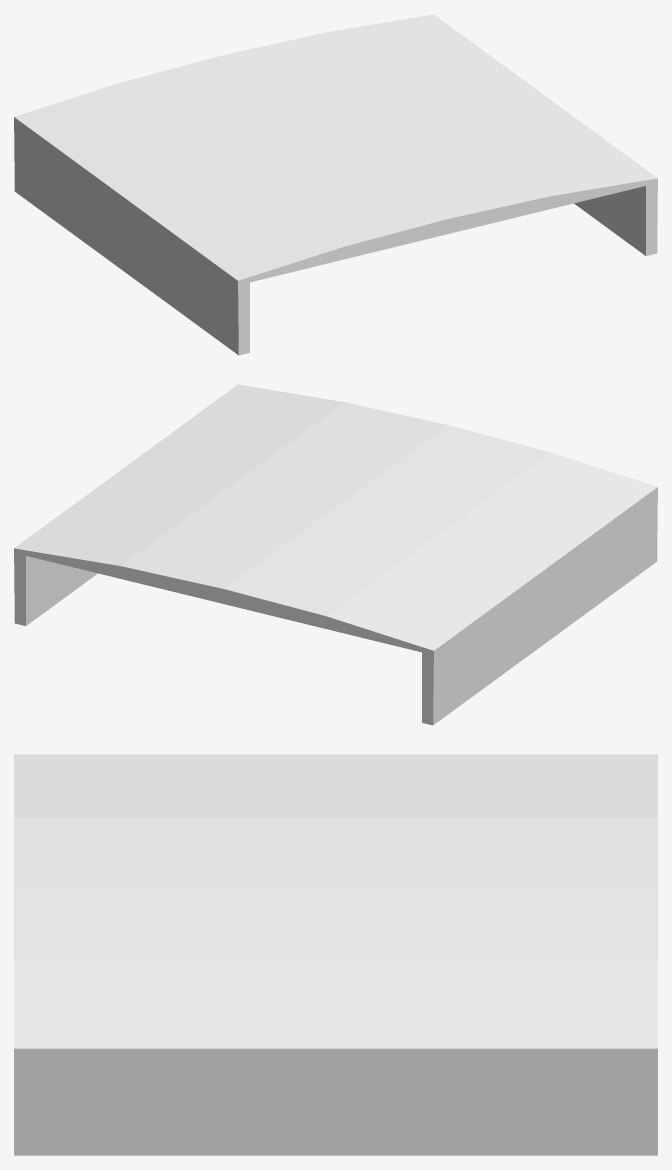
File: Itr_Bed_Double_Blanket_01.FBX
3 views of the same model, one above another, from view 1: azimuth 30°, elevation 25°; view 2: azimuth 150°, elevation 25°; view 3: azimuth 270°, elevation 25° (orthographic). The views are drawn at different scales.
Parts seen in each view (by area): view 1: Itr_Bed_Double_Blanket_01; view 2: Itr_Bed_Double_Blanket_01; view 3: Itr_Bed_Double_Blanket_01.
Boxes of the visible parts, x1,y1,x2,y2 form: Itr_Bed_Double_Blanket_01: (14,14,657,355); Itr_Bed_Double_Blanket_01: (14,384,657,725); Itr_Bed_Double_Blanket_01: (14,754,657,1155).
Bounding box in the file's own units: 70.21 × 13.65 × 64.86.
